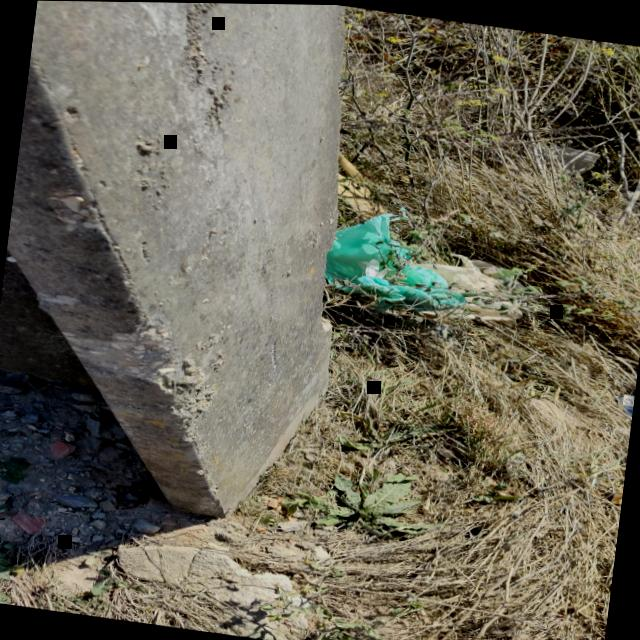Other plastic bottle: (555, 144, 600, 174)
Single-use carrier bag: (324, 206, 467, 310), (409, 251, 527, 319)
Unlabeled litter: (614, 391, 634, 414)
